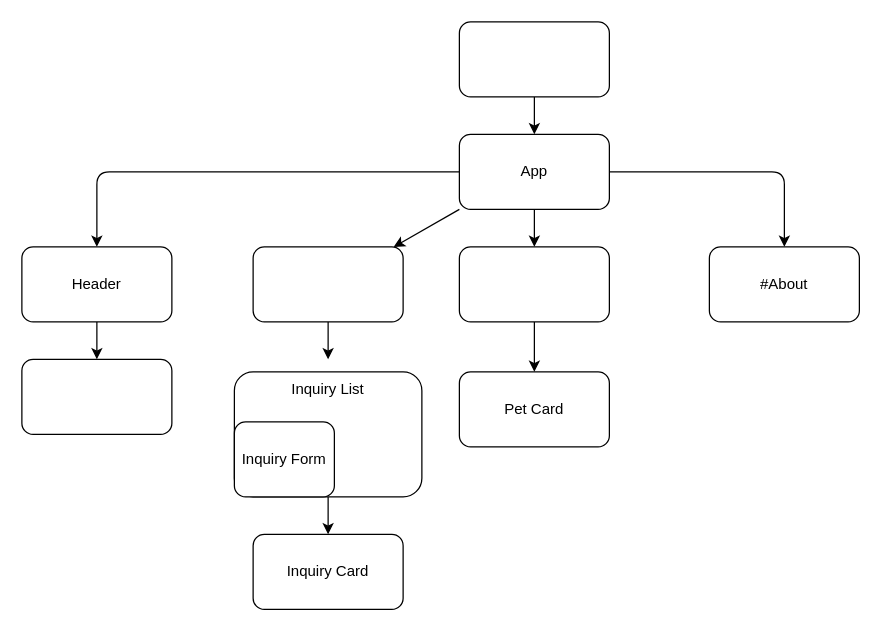
Some shapes in this 881 by 631 pixel diagram are drawn without their labels. The centre of each missing label's shape, as x and y in pixels:
#Inquiries: the point at 327,284
#Pet List: the point at 533,284
Nav Bar: the point at 96,396
PetSee: the point at 533,59
